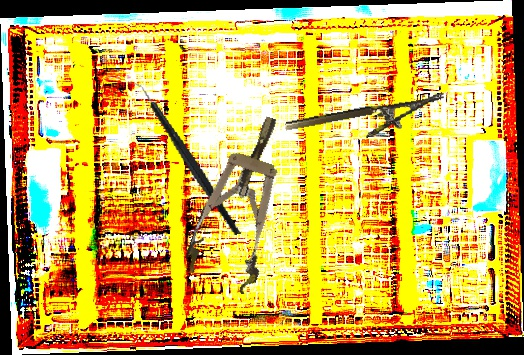Chopper: (125, 64, 242, 252)
Needle Holder: (284, 92, 449, 152)
Speculum: (179, 106, 309, 297)
